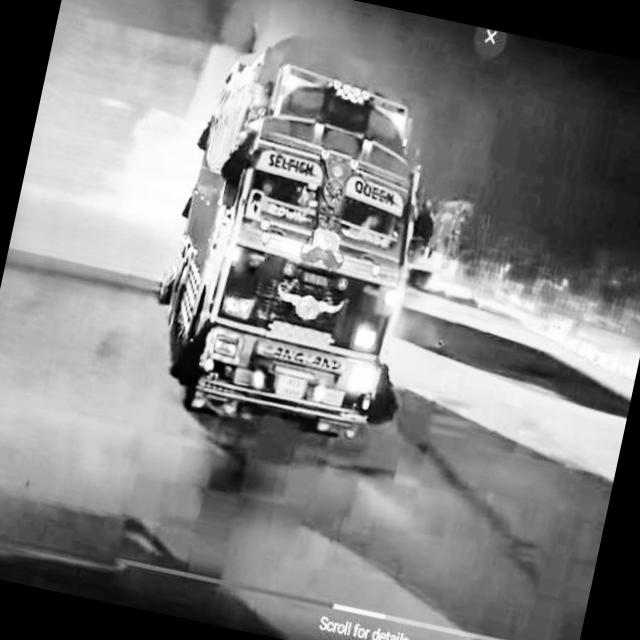Truck: (132, 17, 475, 455)
